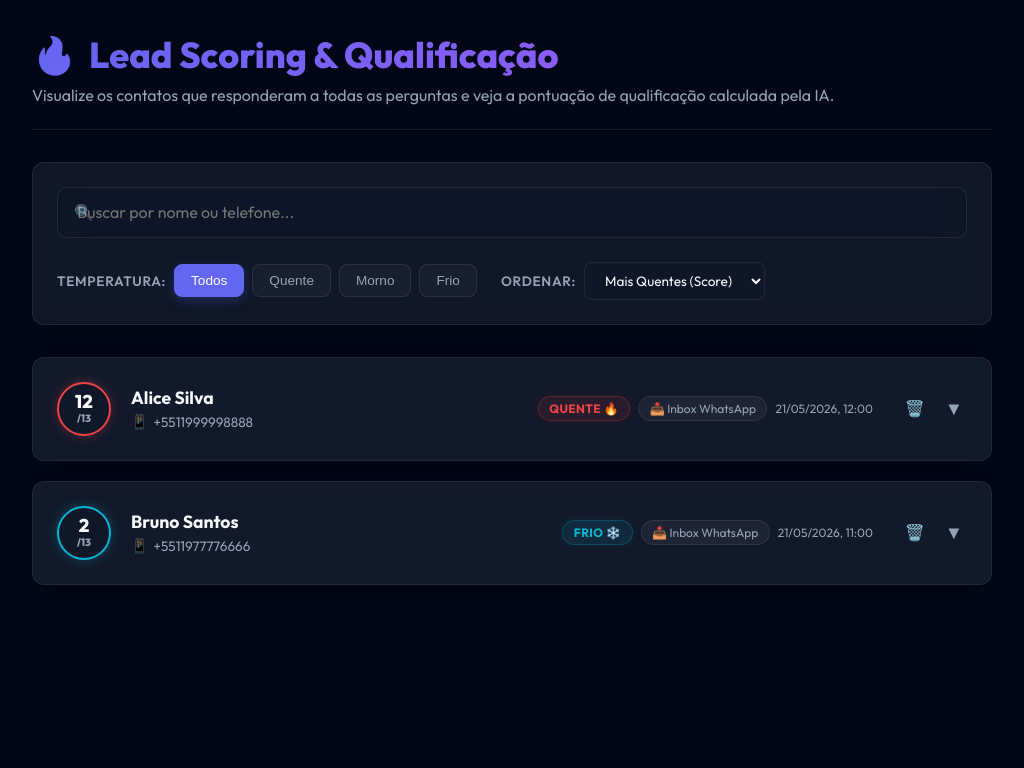
LeadScoring Component › deve filtrar os leads ao clicar no badge de temperatura
expect the heading "Alice Silva" is shown: met, box [131,386,214,409]
Note: Clicar no filtro Frio
Click the button "Frio" at x=448, y=281, box [420,264,477,297]
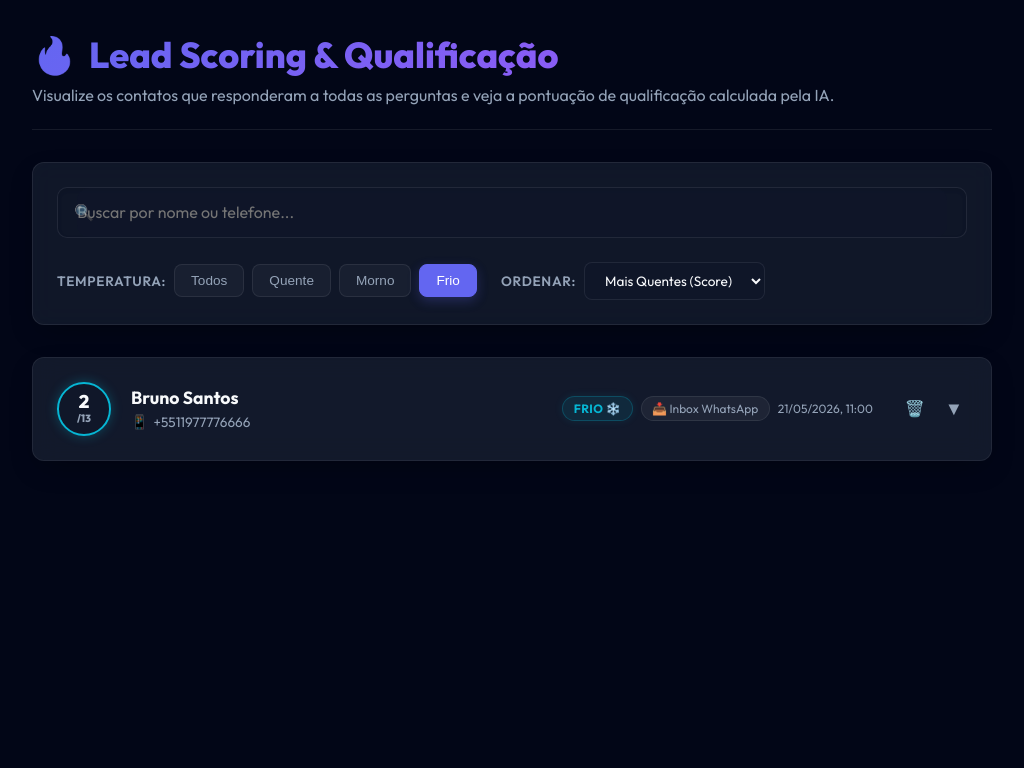
expect the heading "Bruno Santos" is shown: met, box [131,386,250,409]
expect the heading "Alice Silva" is gone: met
